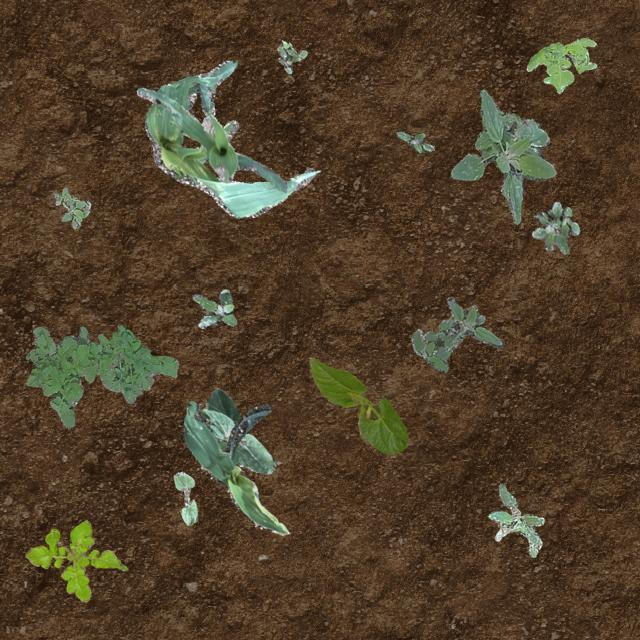crop: (144, 60, 318, 216), (136, 86, 286, 192), (182, 400, 288, 534), (450, 88, 554, 224), (308, 356, 408, 454), (200, 388, 274, 472), (172, 470, 196, 524)
weed: (24, 322, 178, 428), (24, 518, 126, 600), (410, 296, 502, 372), (486, 482, 544, 556), (526, 36, 596, 92), (530, 200, 578, 252), (192, 288, 236, 328), (54, 186, 90, 228), (276, 40, 306, 72), (396, 130, 434, 152)
